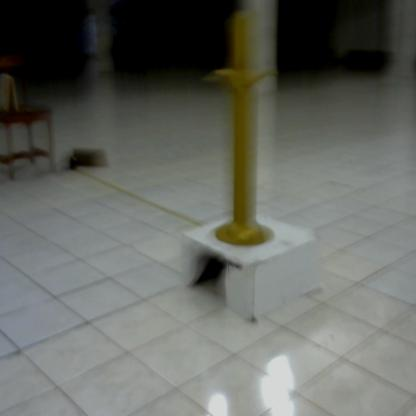pole: (205, 7, 292, 255)
